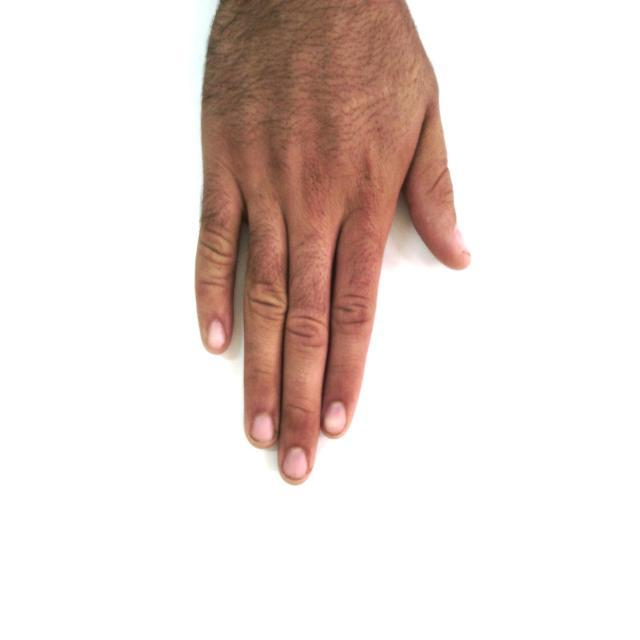Fingernail: (283, 447, 307, 479), (324, 401, 347, 434), (250, 413, 275, 441), (208, 318, 226, 349), (457, 228, 470, 254)
